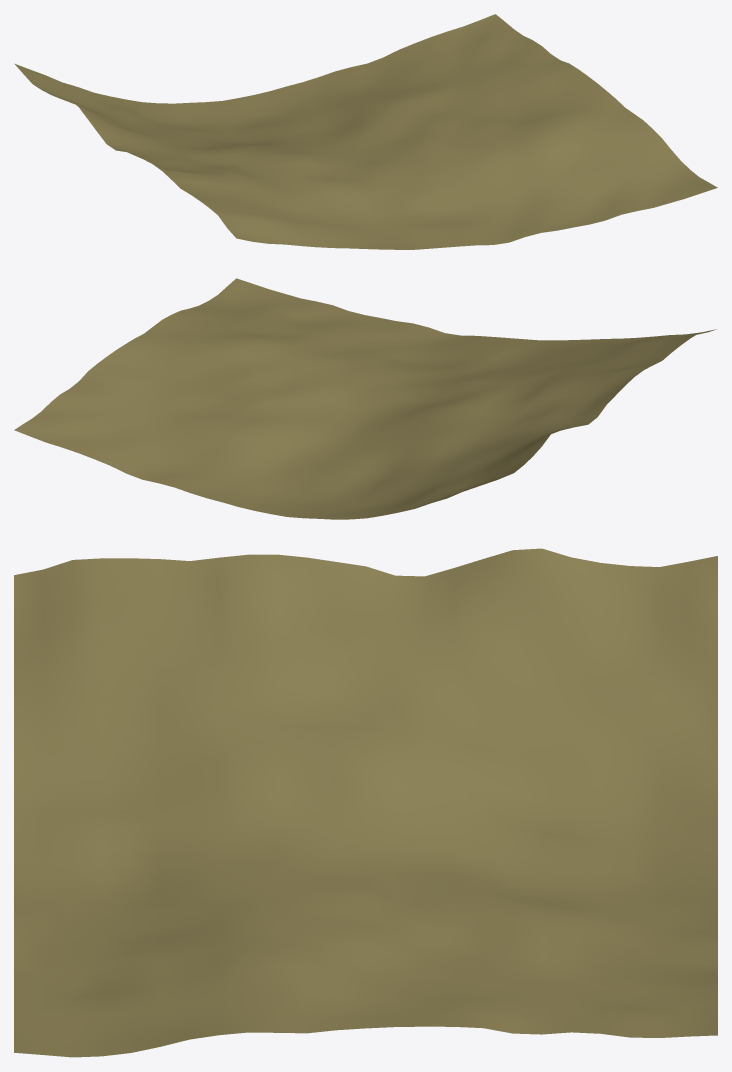
3 renders of one model, top to bottom at view 1: azimuth 30°, elevation 25°; view 2: azimuth 150°, elevation 25°; view 3: azimuth 270°, elevation 25°, orthographic. The views are drawn at different scales.
Visible parts, largest first — view 1: world-ground/210-120; view 2: world-ground/210-120; view 3: world-ground/210-120.
Part boxes in pixels (bbox=[...]): world-ground/210-120: bbox=[14, 14, 717, 249]; world-ground/210-120: bbox=[14, 278, 716, 519]; world-ground/210-120: bbox=[14, 548, 717, 1057].
Bounding box in the file's own units: 37.5 × 7.26 × 30.
